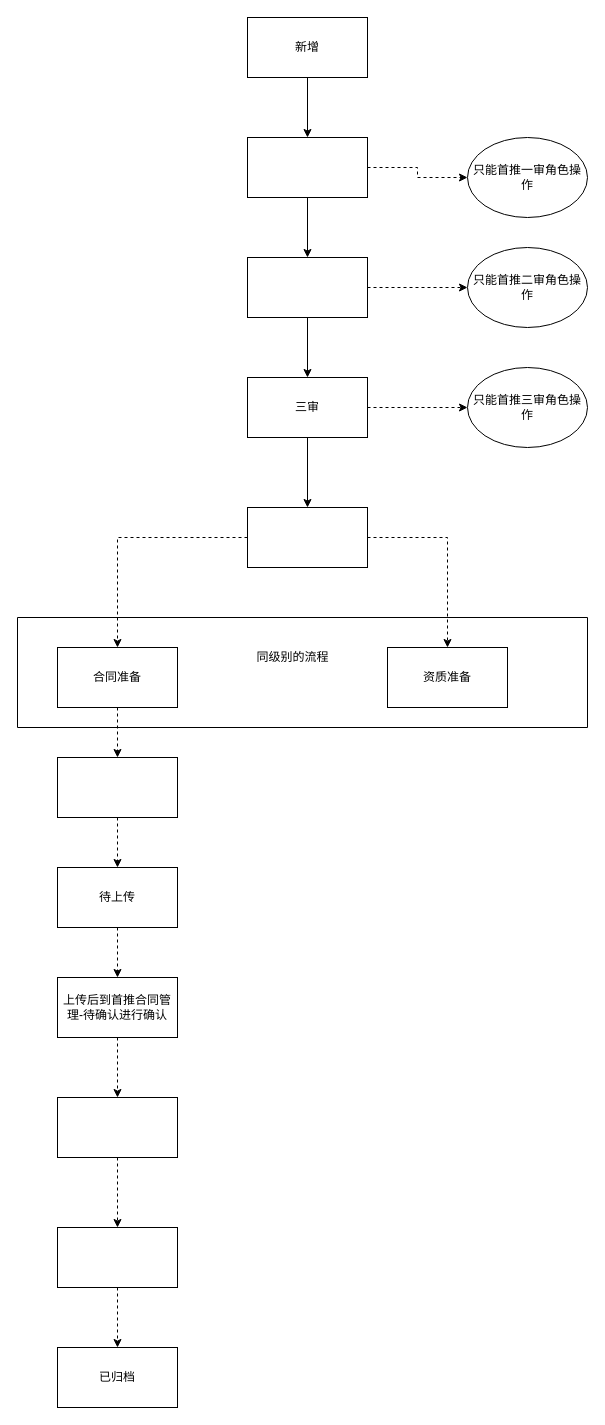
The diagram is 605 pixels wide and 1425 high, and some of its shapes have lost their labels. Here are the shapes that lost their labels. From the top down, the centre of each, then its label:
At point (307, 167): "一审".
At point (307, 287): "二审".
At point (307, 537): "审核通过".
At point (117, 787): "导出合同模板".
At point (117, 1127): "待归档".
At point (117, 1257): "归档".
